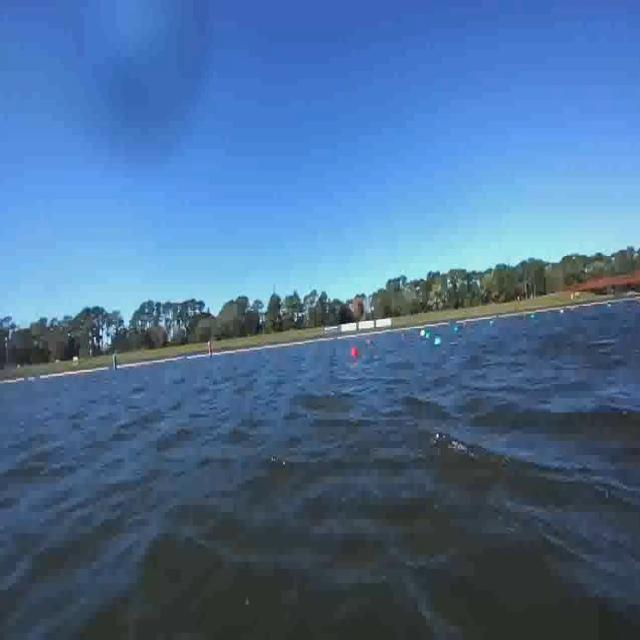green-buoy: (433, 337, 442, 349)
red-buoy: (352, 347, 358, 358)
